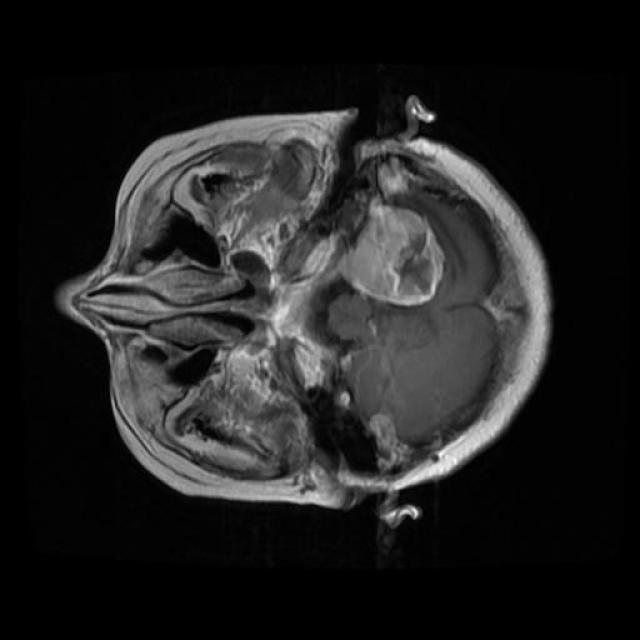Meningioma: (341, 200, 444, 306)
